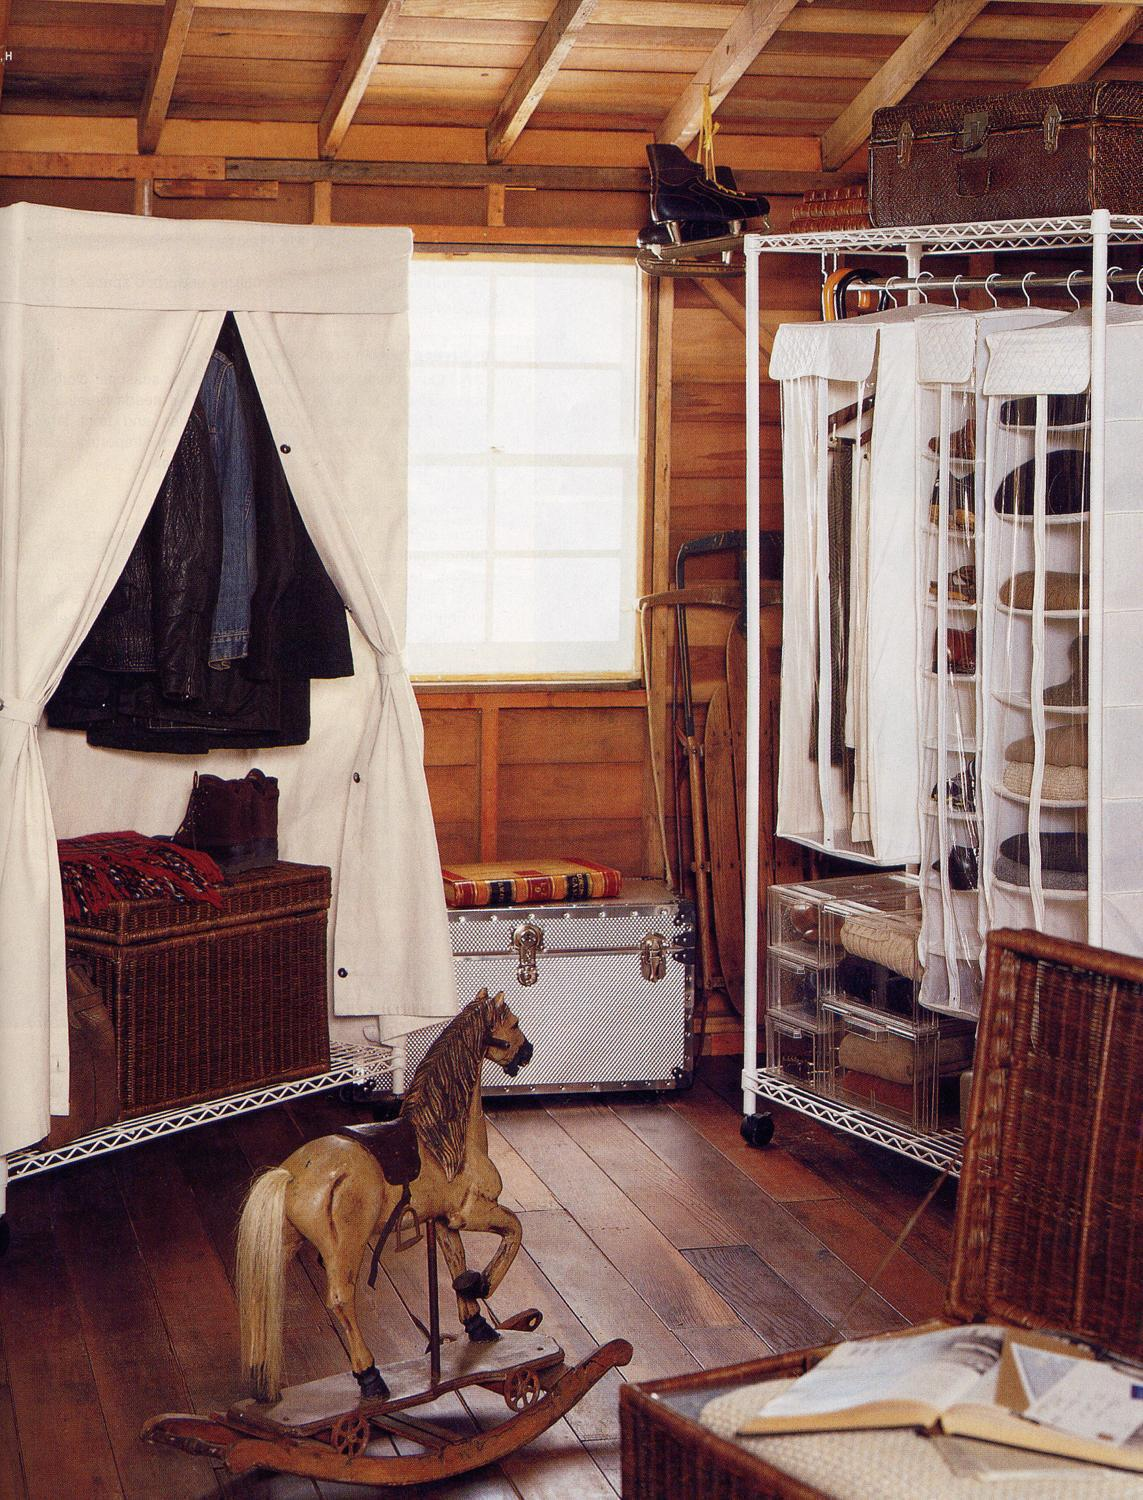Otro Obstaculo: (644, 998, 1141, 1499), (258, 960, 635, 1486), (412, 846, 710, 1096)
Ventana: (378, 235, 642, 680)
